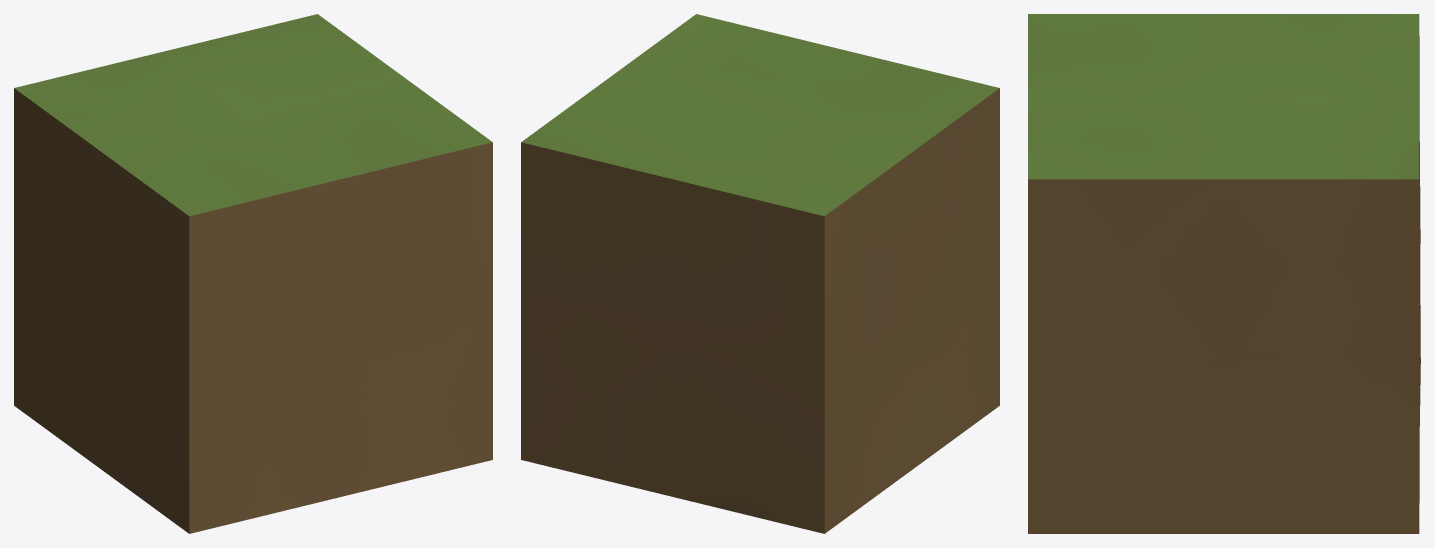
File: natural-block-forest.gltf
3 renders of one model, left to right at view 1: azimuth 30°, elevation 25°; view 2: azimuth 150°, elevation 25°; view 3: azimuth 270°, elevation 25°, orthographic. The views are drawn at different scales.
Parts seen in each view (by area): view 1: natural-block-forest; view 2: natural-block-forest; view 3: natural-block-forest.
Part boxes in pixels (bbox=[...]): natural-block-forest: bbox=[14, 14, 492, 533]; natural-block-forest: bbox=[521, 14, 999, 533]; natural-block-forest: bbox=[1028, 14, 1420, 533].
Size of the model in its own units: 1 by 1 by 1.
